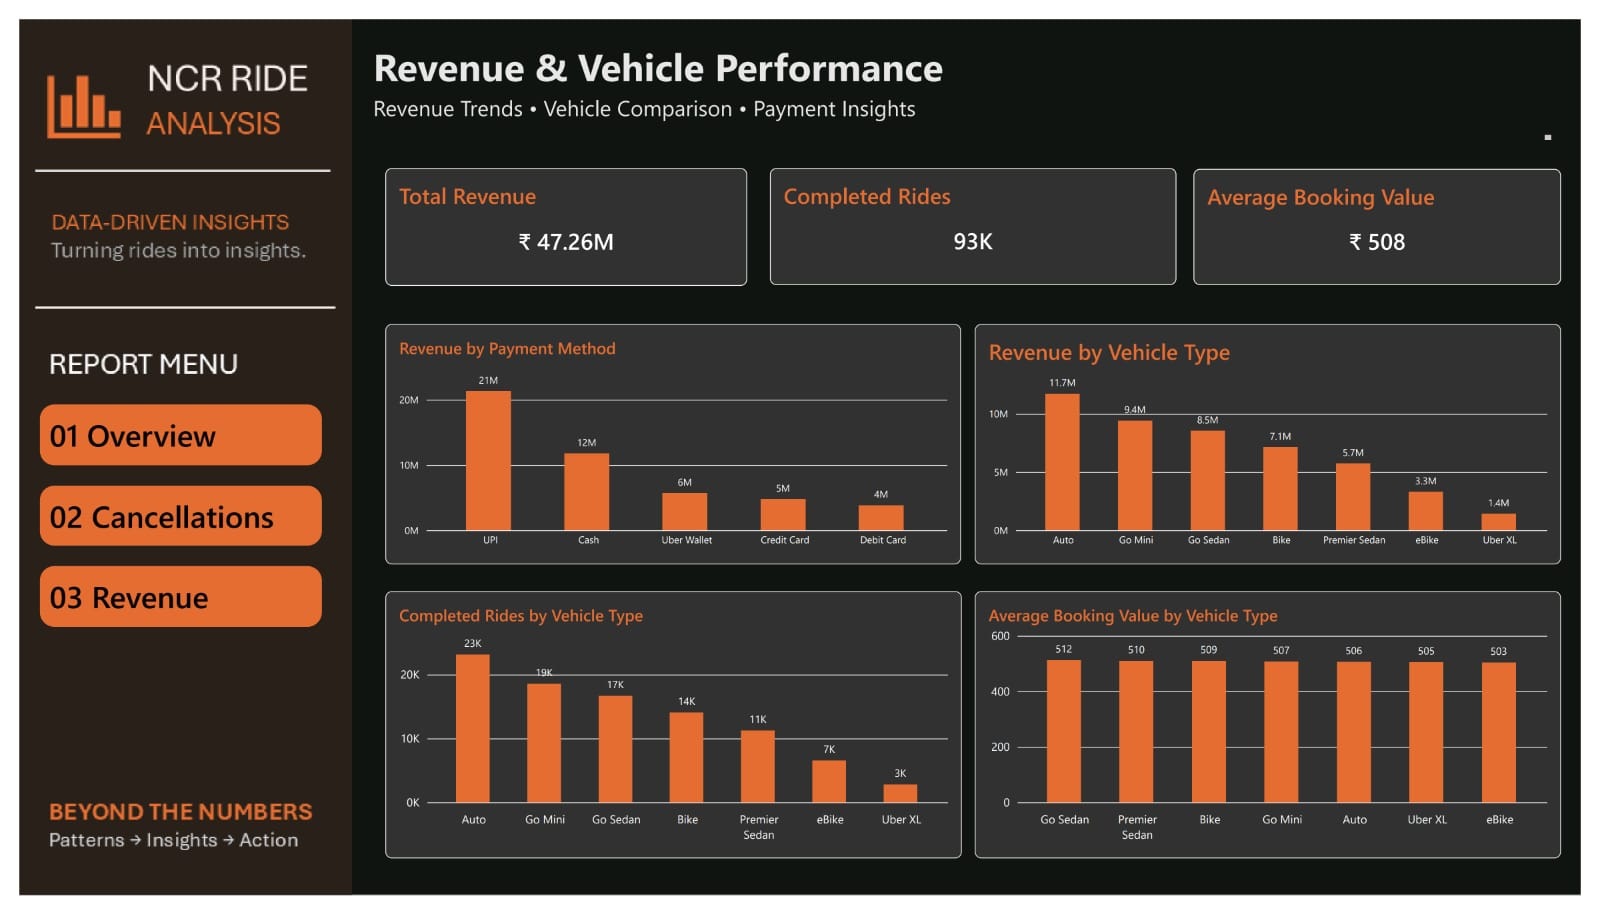

This screenshot's page, from the dashboard's own definition file:
{"tool":"powerbi","page":{"name":"Page 3","canvas":[1920,1080],"ordinal":2},"visuals":[{"type":"textbox","title":"Revenue & Vehicle Performance","box":[435.5,25.8,1448.4,122.6],"z":0},{"type":"card","title":"Total Revenue","fields":{"Values":["uber_ride_cleaned.Revenue"]},"box":[450,182.5,445,145],"z":1000},{"type":"card","title":"Completed Rides","fields":{"Values":["uber_ride_cleaned.Completed Rides"]},"box":[923.3,183.3,500,143.3],"z":2000},{"type":"card","title":"Average Booking Value","fields":{"Values":["uber_ride_cleaned.Avg Booking Value"]},"box":[1444.4,184.4,451.1,142.2],"z":3000},{"type":"clusteredColumnChart","title":"Revenue by Vehicle Type","fields":{"Category":["uber_ride_cleaned.Vehicle Type"],"Y":["uber_ride_cleaned.Revenue"]},"box":[1175,375,720.8,295.8],"z":4000},{"type":"clusteredColumnChart","title":"Revenue by Payment Method","fields":{"Category":["uber_ride_cleaned.Payment Method"],"Y":["uber_ride_cleaned.Total Revenue"]},"box":[450,375,708.3,295.8],"z":5000},{"type":"clusteredColumnChart","title":"Average Booking Value by Vehicle Type","fields":{"Category":["uber_ride_cleaned.Vehicle Type"],"Y":["uber_ride_cleaned.Avg Booking Value"]},"box":[1175,704.2,720.8,329.2],"z":6000},{"type":"clusteredColumnChart","title":"Completed Rides by Vehicle Type","fields":{"Category":["uber_ride_cleaned.Vehicle Type"],"Y":["uber_ride_cleaned.Completed Rides"]},"box":[450,704.3,708.6,328.6],"z":7000},{"type":"actionButton","box":[24.8,474.5,347.6,74.5],"z":7001},{"type":"actionButton","box":[24.8,673.1,347.6,74.5],"z":7002},{"type":"actionButton","box":[24.8,573.8,347.6,74.5],"z":7003}]}

Visuals, with their boxes in screenshot pixels (x1, y1, x2, y2), scaled from the page's 1920x1080 canvas onto the 1600x916 screenshot:
"Revenue & Vehicle Performance" textbox: 363, 22, 1570, 126
"Total Revenue" card: 375, 155, 746, 278
"Completed Rides" card: 769, 155, 1186, 277
"Average Booking Value" card: 1204, 156, 1580, 277
"Revenue by Vehicle Type" clusteredColumnChart: 979, 318, 1580, 569
"Revenue by Payment Method" clusteredColumnChart: 375, 318, 965, 569
"Average Booking Value by Vehicle Type" clusteredColumnChart: 979, 597, 1580, 876
"Completed Rides by Vehicle Type" clusteredColumnChart: 375, 597, 966, 876
actionButton: 21, 402, 310, 466
actionButton: 21, 571, 310, 634
actionButton: 21, 487, 310, 550
